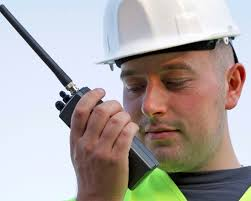hard hat: (93, 1, 240, 65)
